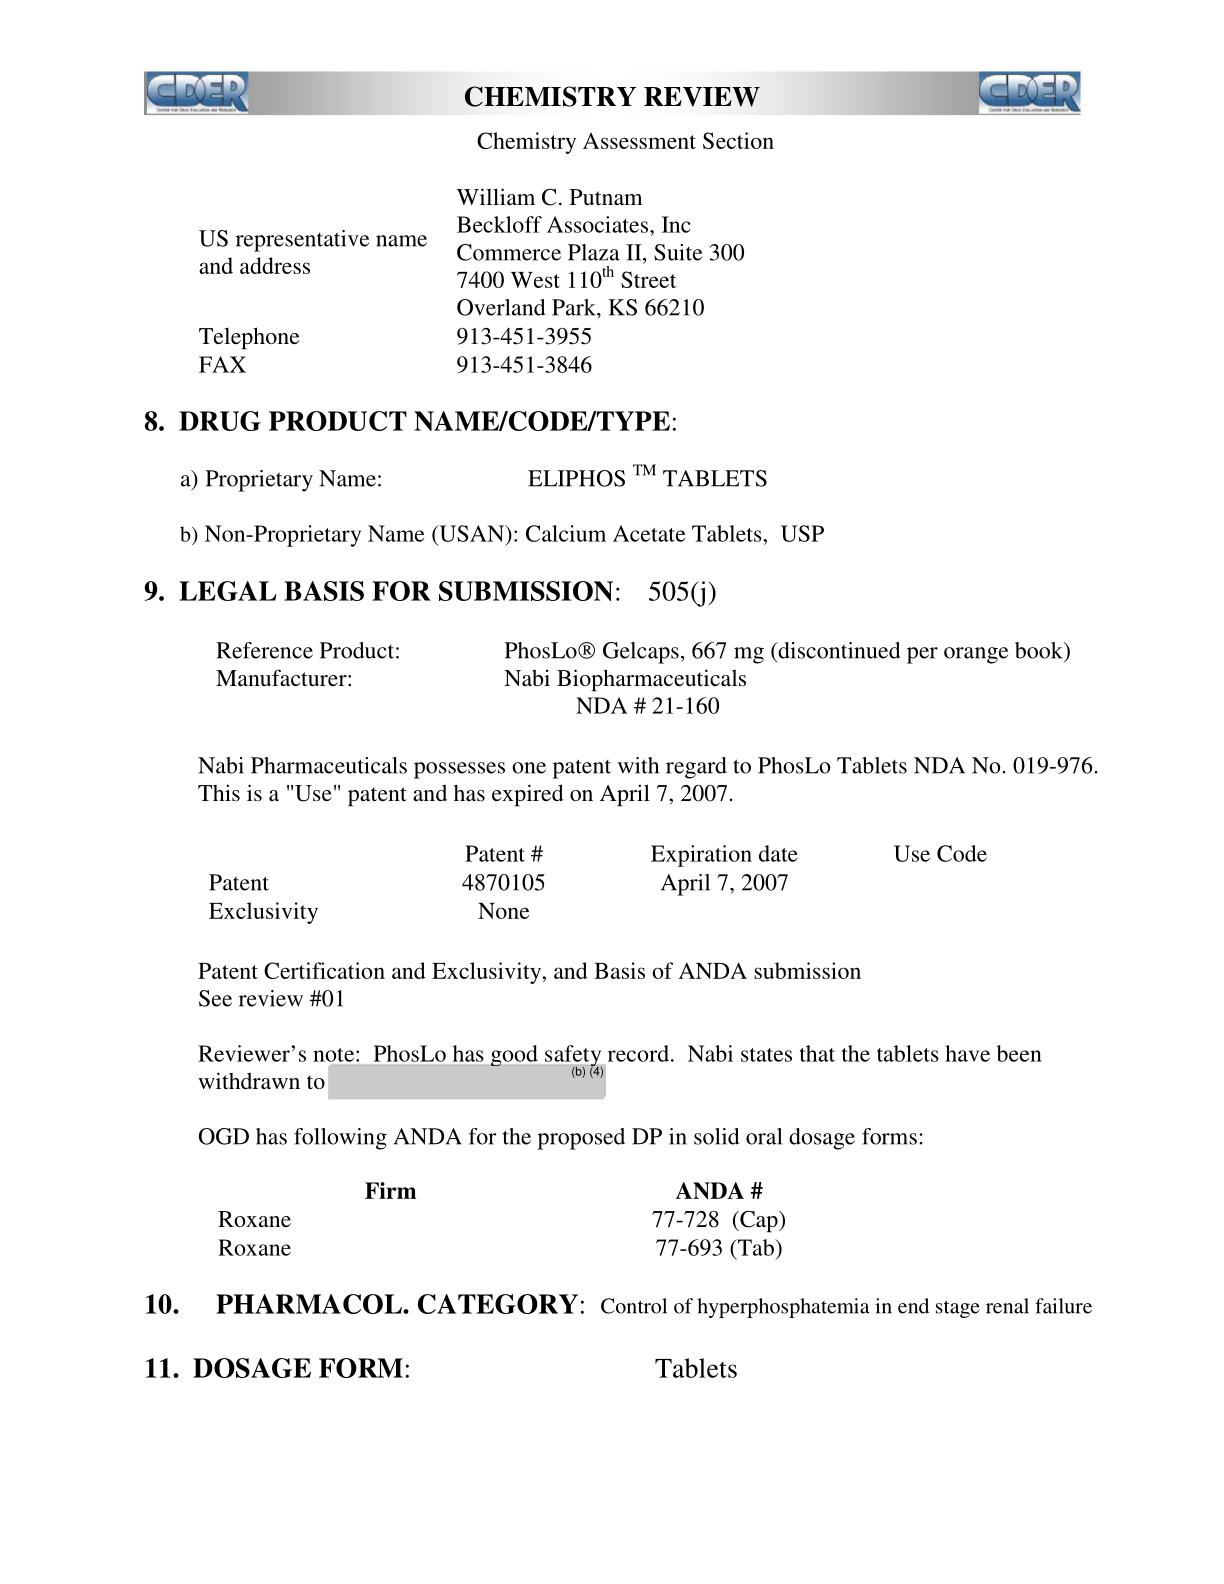nolines: (195, 183, 747, 377), (213, 636, 1077, 721), (206, 840, 987, 927), (219, 1178, 789, 1263)
